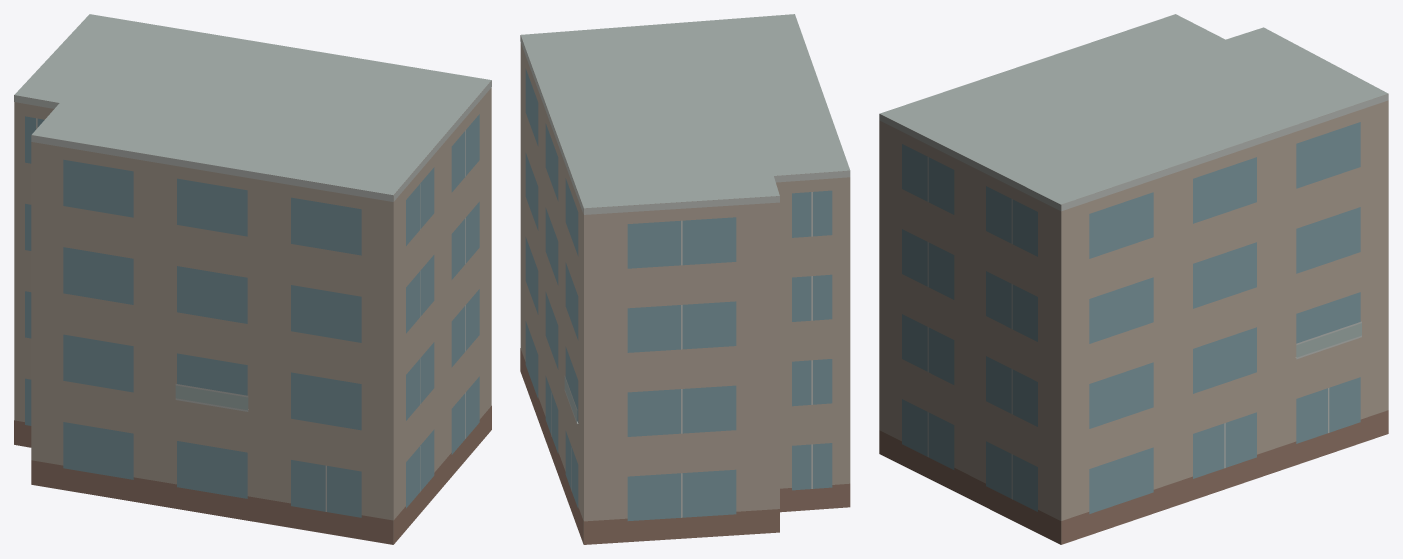
Rendered from survey-upis-32834833.glb.
3 renders of one model, left to right at view 1: azimuth 30°, elevation 25°; view 2: azimuth 150°, elevation 25°; view 3: azimuth 270°, elevation 25°, orthographic. The views are drawn at different scales.
Parts seen in each view (by area): view 1: survey-upis-32834833.tmp; view 2: survey-upis-32834833.tmp; view 3: survey-upis-32834833.tmp.
Boxes of the visible parts, bbox=[...] form: survey-upis-32834833.tmp: bbox=[14, 14, 491, 544]; survey-upis-32834833.tmp: bbox=[520, 14, 850, 544]; survey-upis-32834833.tmp: bbox=[879, 14, 1388, 544].
Bounding box in the file's own units: 14.79 × 12.3 × 16.69.
